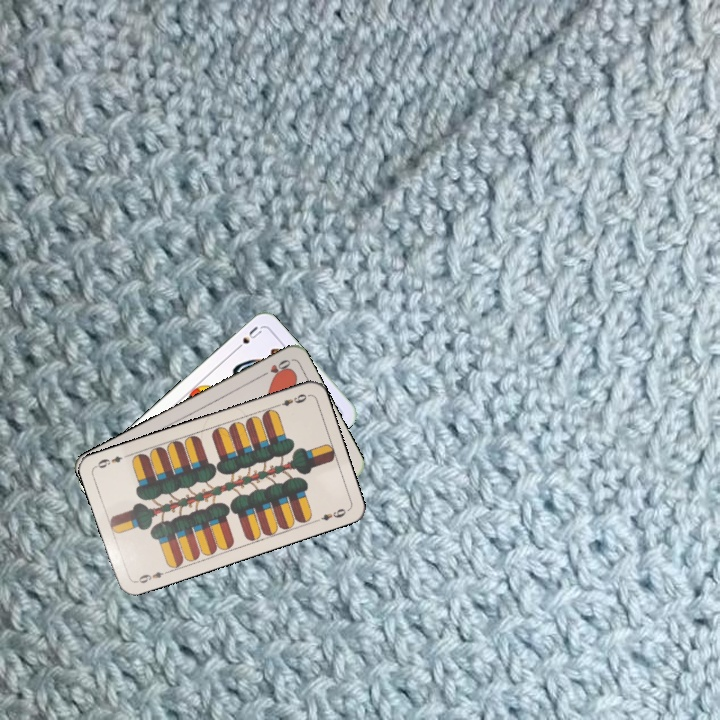E9: (271, 390, 309, 410), (132, 567, 171, 586)
HO: (255, 355, 293, 380)
SU: (230, 322, 264, 354)
